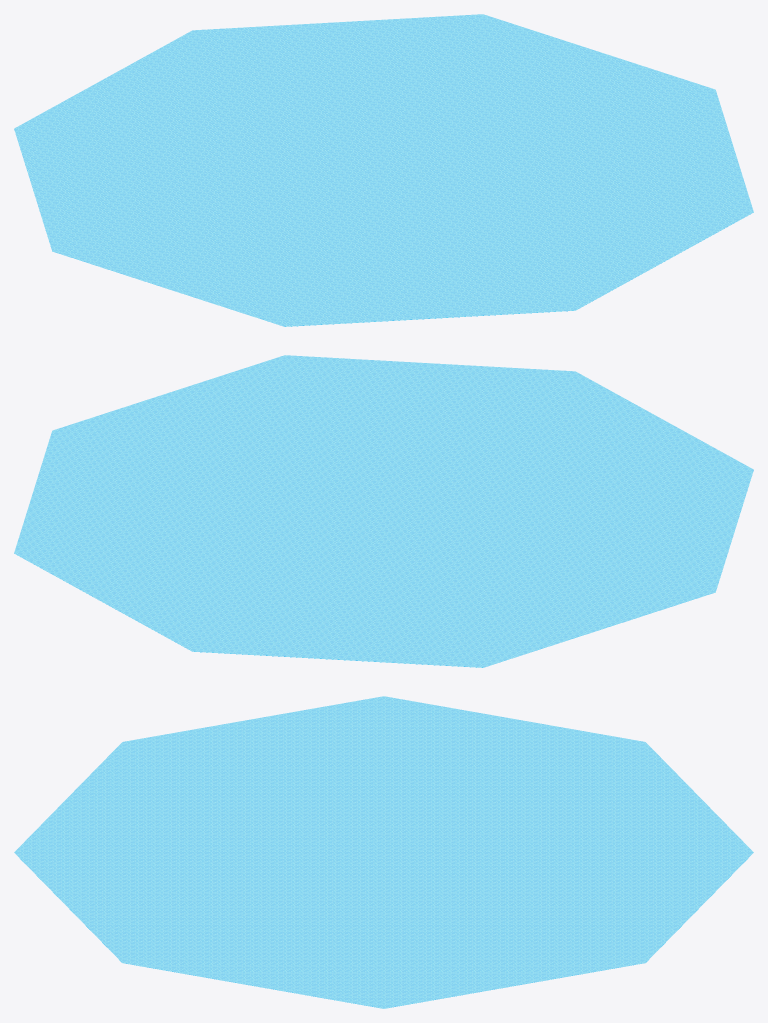
Rendered from beach_courseD-beach_waterC.glb.
3 views of the same model, one above another, from view 1: azimuth 30°, elevation 25°; view 2: azimuth 150°, elevation 25°; view 3: azimuth 270°, elevation 25° (orthographic). The views are drawn at different scales.
Parts seen in each view (by area): view 1: beach_waterC; view 2: beach_waterC; view 3: beach_waterC.
Boxes of the visible parts, <box> form: beach_waterC: <box>14,14,753,326</box>; beach_waterC: <box>14,355,753,667</box>; beach_waterC: <box>14,696,753,1008</box>.
Bounding box in the file's own units: 862 × 0.125 × 862.
Materials: 2 (2 with a texture image).
